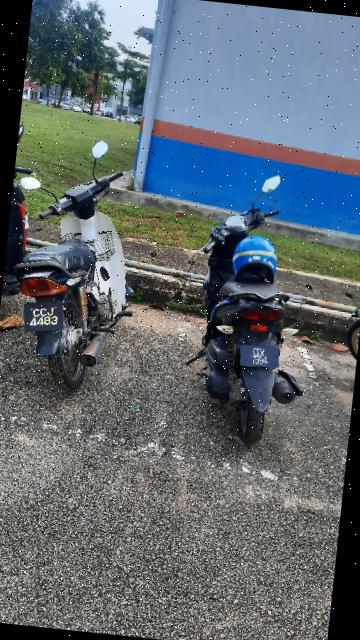License_Plate: (18, 296, 73, 338), (239, 344, 282, 372)
motorcycle: (158, 145, 360, 463), (1, 120, 162, 406)
